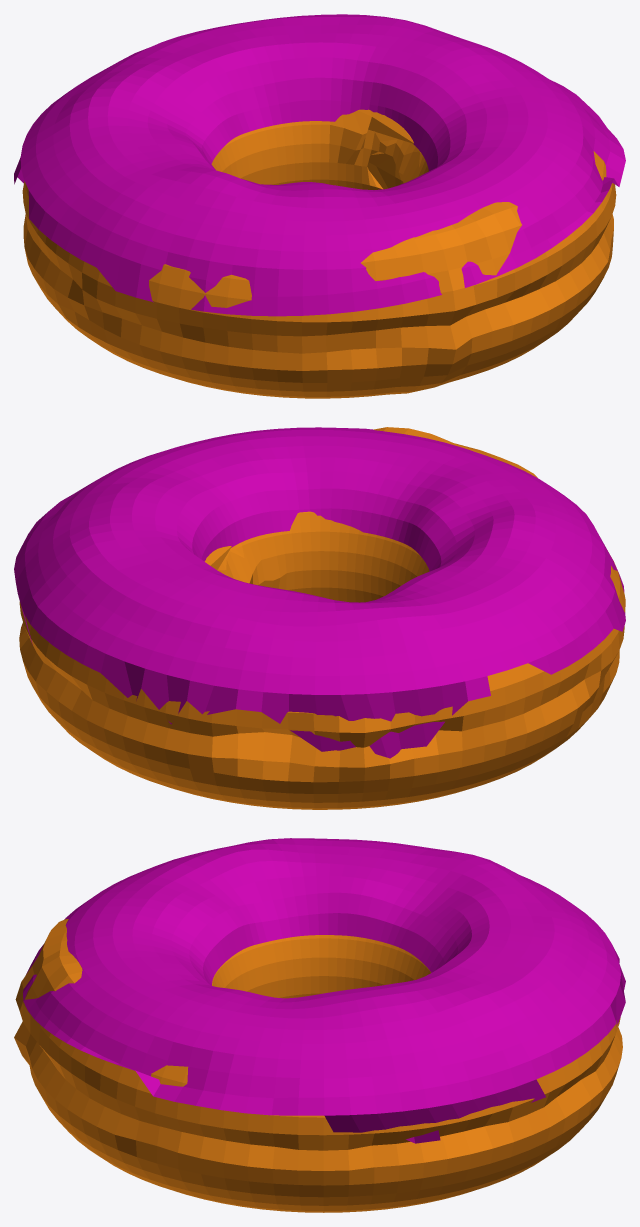
The model's file is asset.glb.
3 views of the same model, one above another, from view 1: azimuth 30°, elevation 25°; view 2: azimuth 150°, elevation 25°; view 3: azimuth 270°, elevation 25° (orthographic).
Parts seen in each view (by area): view 1: Torus.001, Torus; view 2: Torus.001, Torus; view 3: Torus.001, Torus.
Part boxes in pixels (left/top/right/bottom): Torus.001: left=14, top=14, right=625, bottom=316; Torus: left=22, top=109, right=616, bottom=398; Torus.001: left=14, top=427, right=625, bottom=758; Torus: left=19, top=427, right=625, bottom=809; Torus.001: left=23, top=838, right=625, bottom=1143; Torus: left=14, top=919, right=622, bottom=1212.
Bounding box in the file's own units: 13.26 × 4.72 × 13.23.
